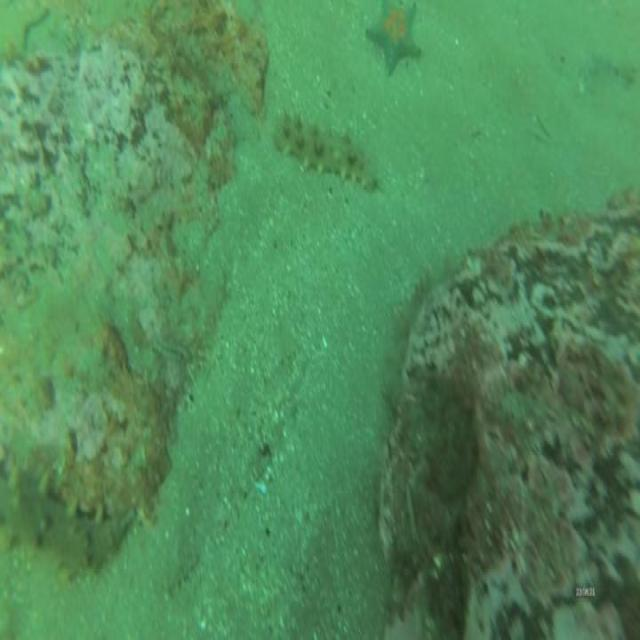holothurian: (0, 477, 125, 578), (272, 106, 377, 193)
starfish: (364, 2, 424, 78)
